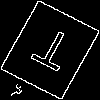T: (25, 25, 76, 81)
